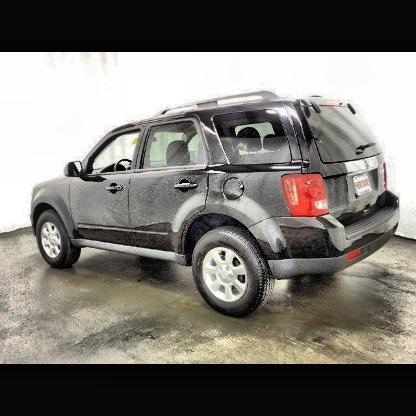Mazda Tribute SUV 2011: (26, 89, 404, 320)
